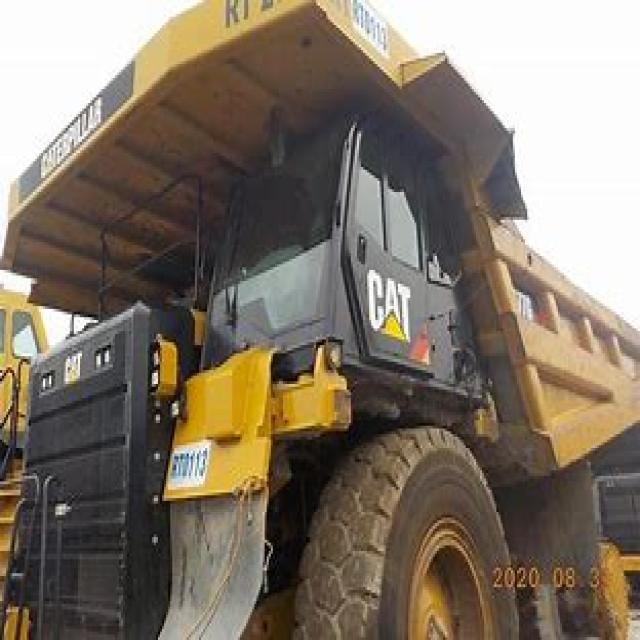dump_truck: (2, 3, 638, 637)
